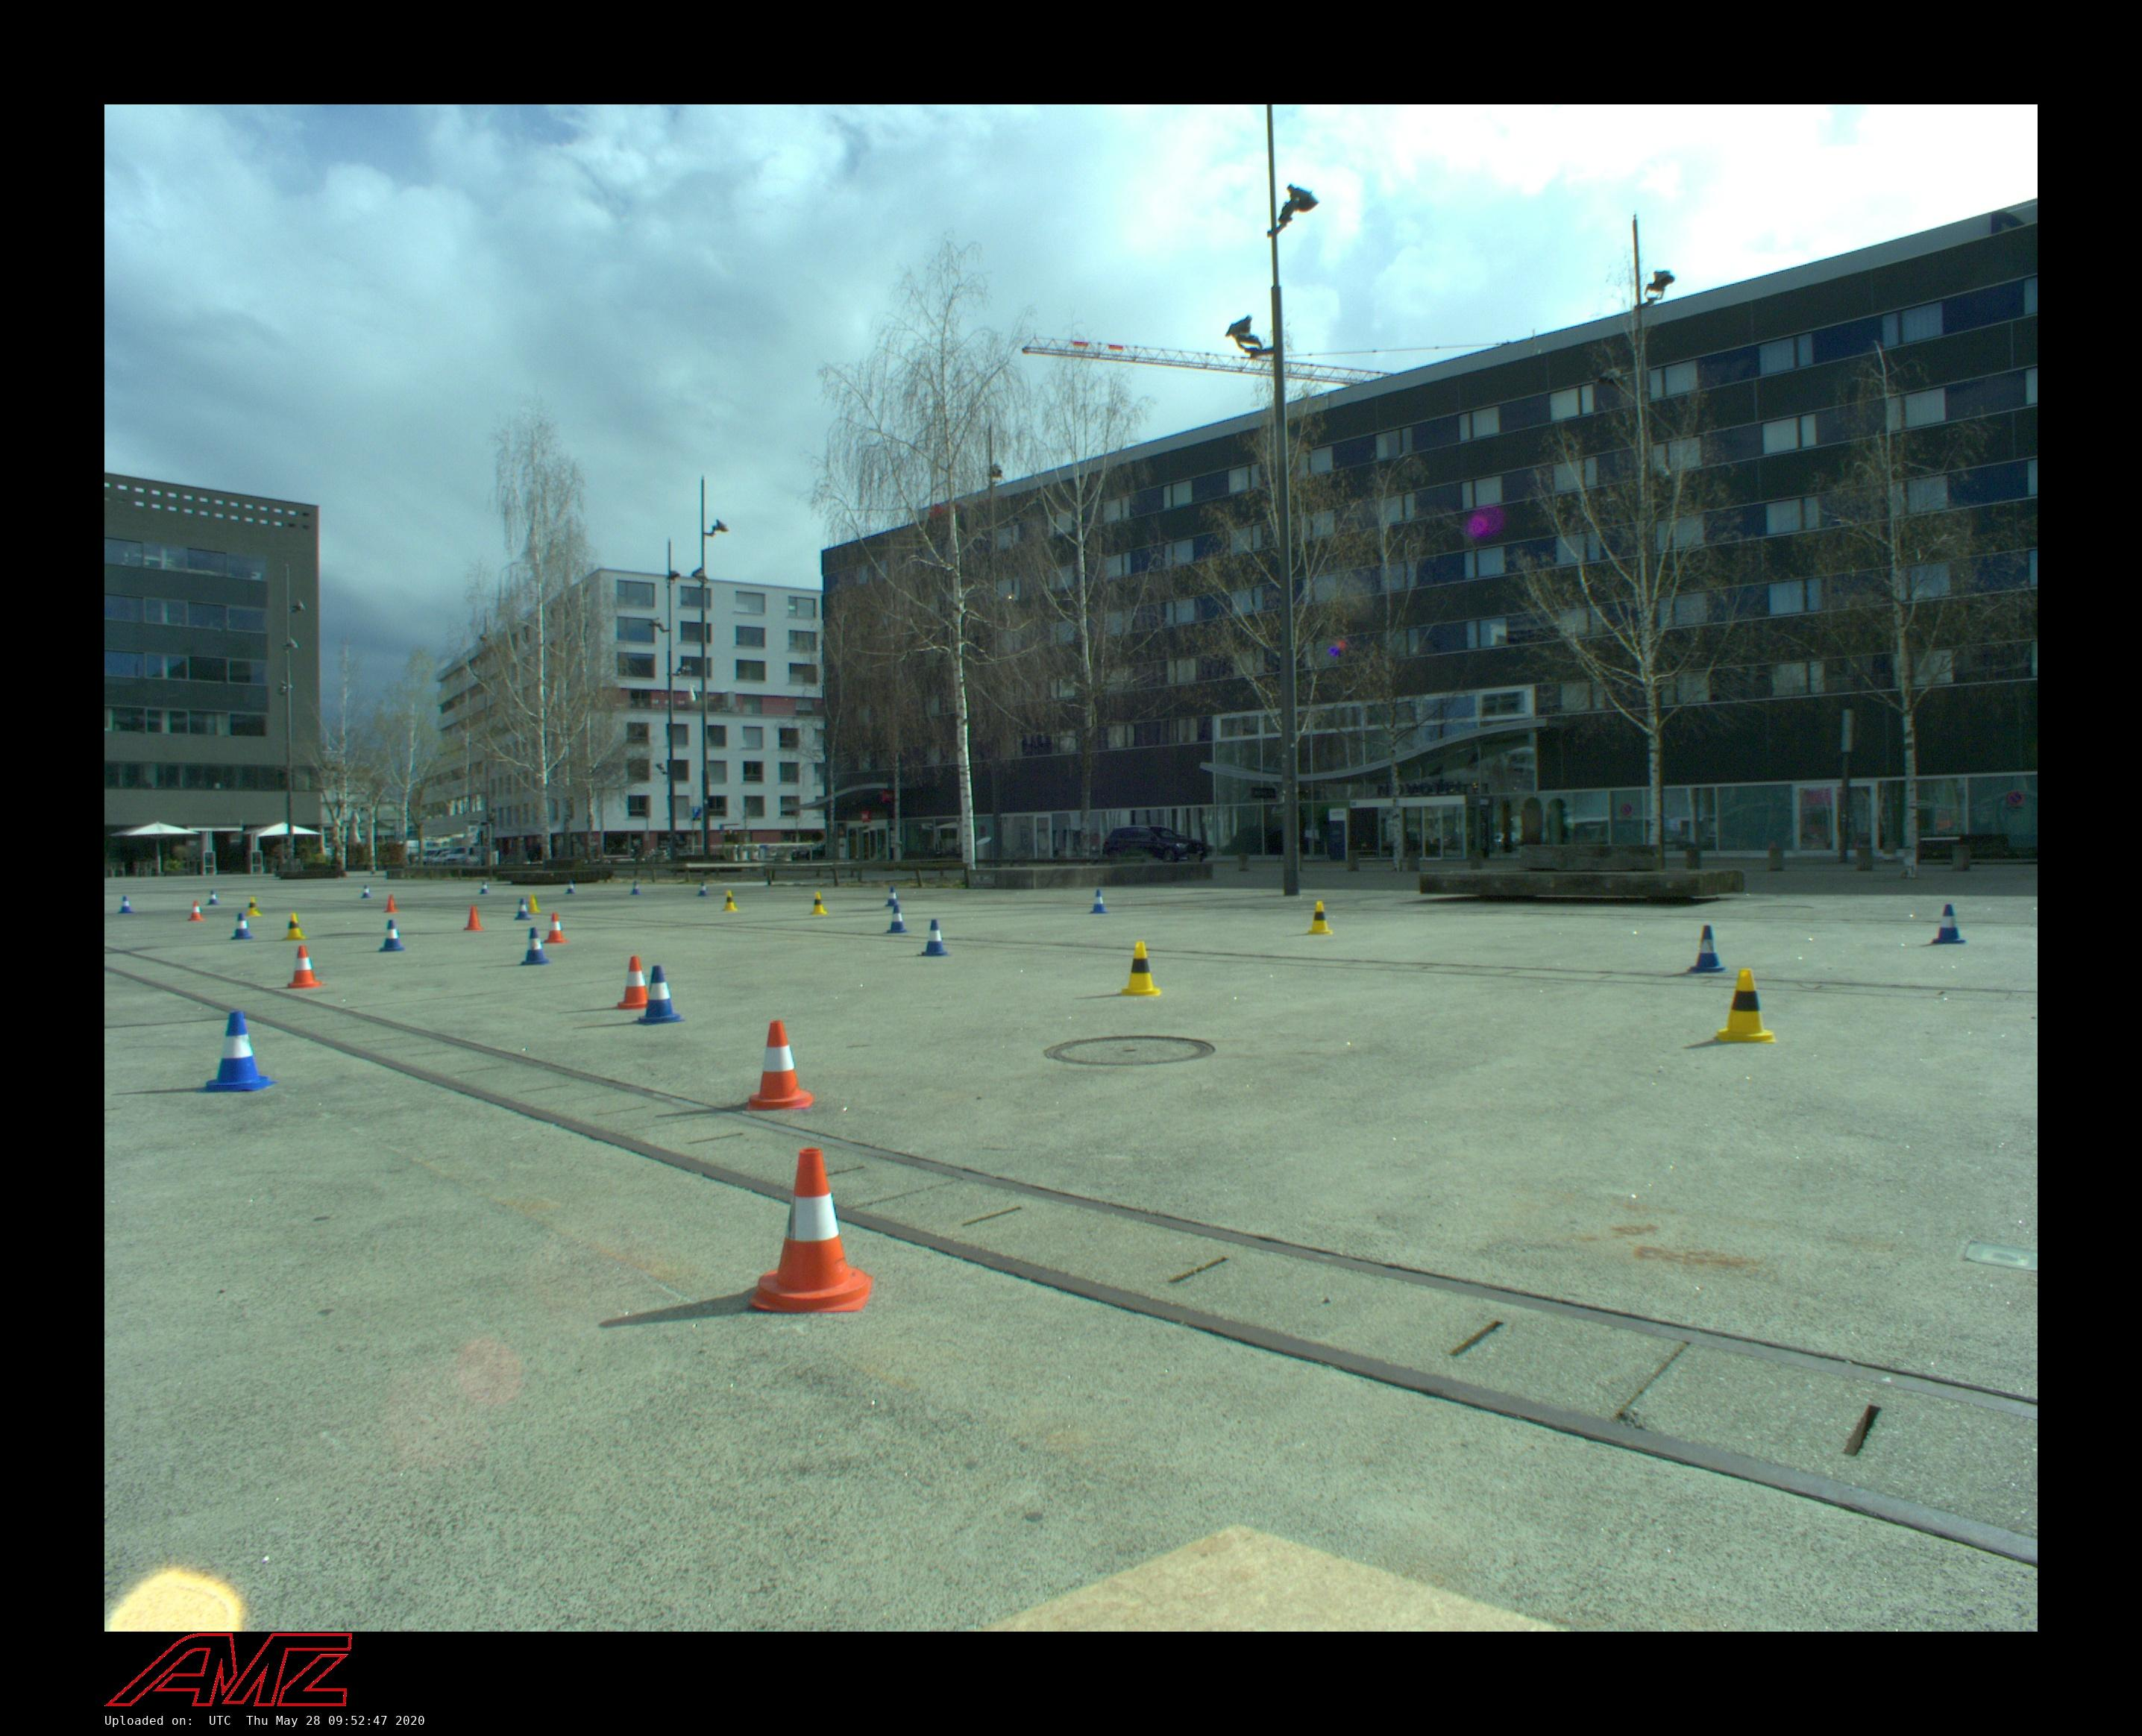blue_cone: (198, 1010, 278, 1093), (633, 965, 686, 1026), (1687, 925, 1727, 974), (1931, 905, 1968, 944), (519, 926, 551, 965), (920, 919, 951, 957), (379, 919, 406, 951), (886, 905, 909, 934), (230, 912, 253, 939), (1090, 889, 1109, 914), (514, 898, 532, 919), (119, 896, 135, 914), (886, 887, 900, 907), (207, 889, 221, 905), (565, 880, 578, 895), (631, 880, 641, 896), (698, 882, 709, 896), (480, 880, 491, 895), (361, 886, 372, 898)
orange_cone: (749, 1146, 872, 1313), (746, 1020, 815, 1111), (613, 955, 659, 1010), (285, 944, 324, 988), (542, 912, 567, 944), (462, 905, 484, 930), (188, 902, 206, 921), (384, 895, 399, 912)
yellow_cone: (1715, 967, 1777, 1043), (1121, 941, 1160, 996), (1308, 902, 1332, 935), (282, 912, 308, 941), (810, 891, 829, 916), (244, 896, 262, 916), (721, 891, 739, 911), (526, 893, 542, 912)
